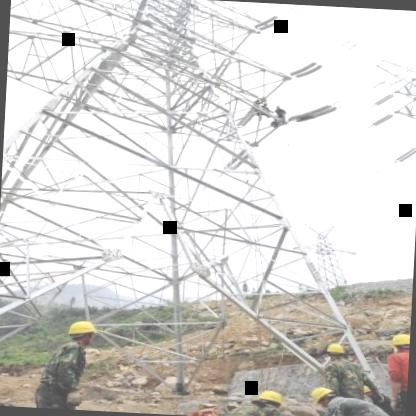helmet: (63, 315, 100, 348), (250, 387, 287, 414), (308, 386, 341, 410), (320, 341, 350, 363), (388, 330, 410, 356)
